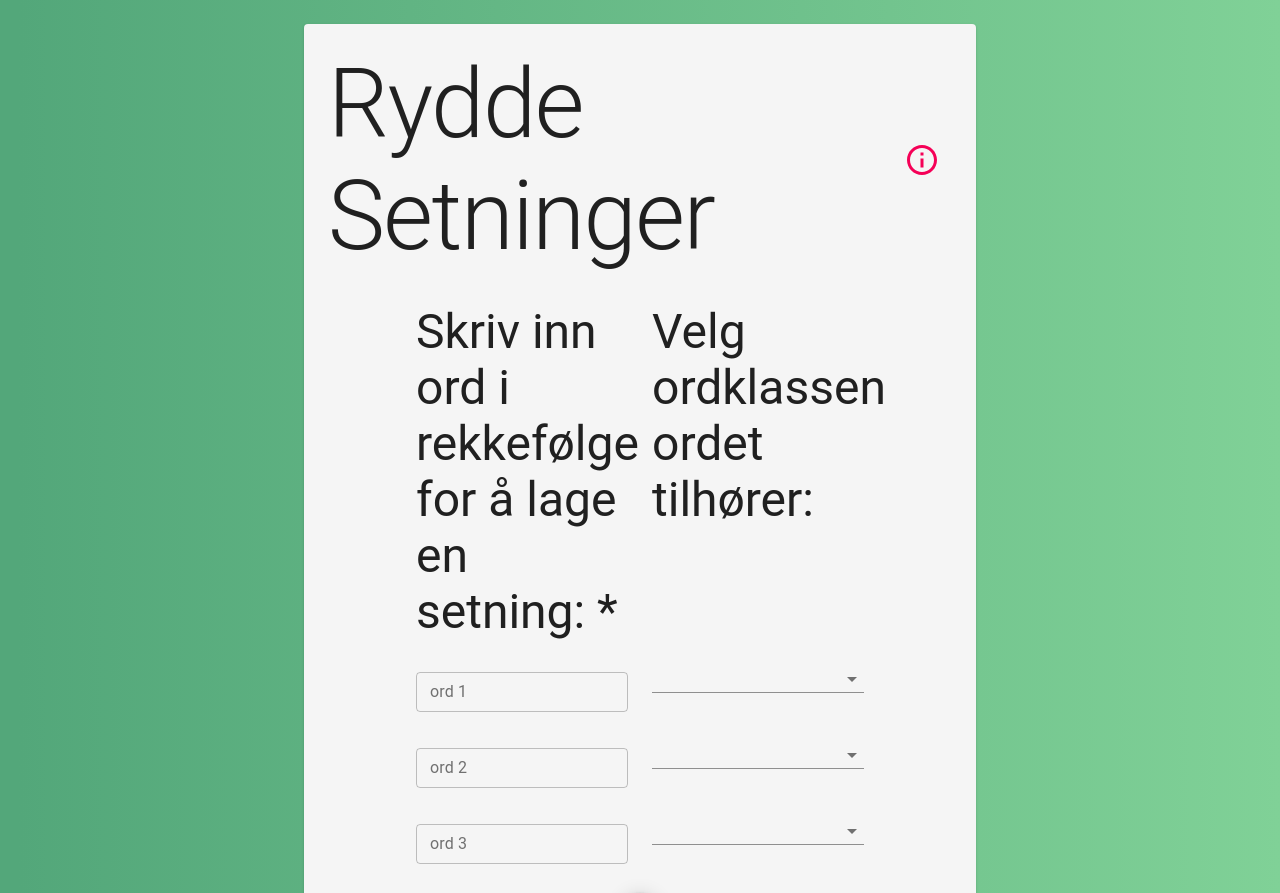
Test case: CreateRyddeSetninger test › infoModal ryddeSetninger
Click the button with test id "infoButton". click: (922, 160)
box: [892,48,952,272]
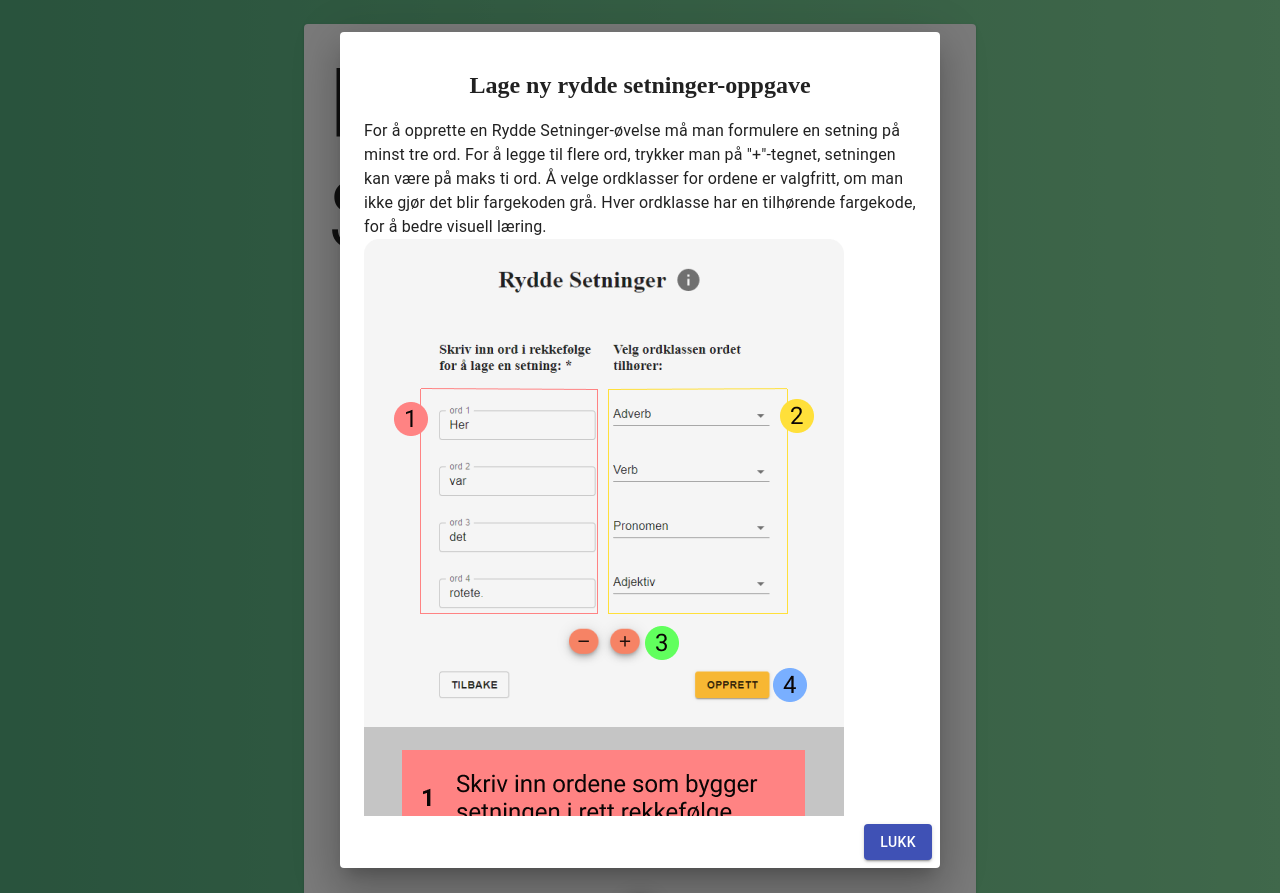
Now the heading "Lage ny rydde setninger-oppgave" is shown, box [469,72,810,98]
